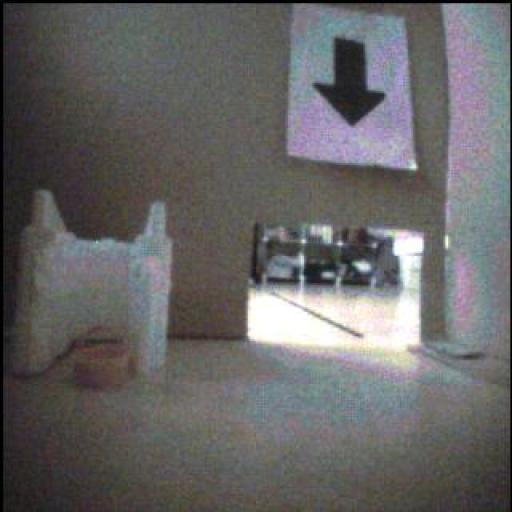arrow: (315, 40, 387, 128)
